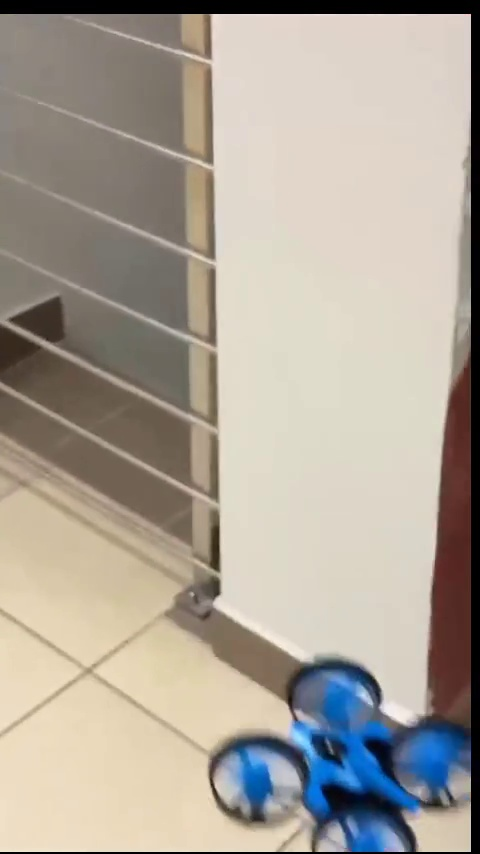drone: (210, 658, 469, 848)
